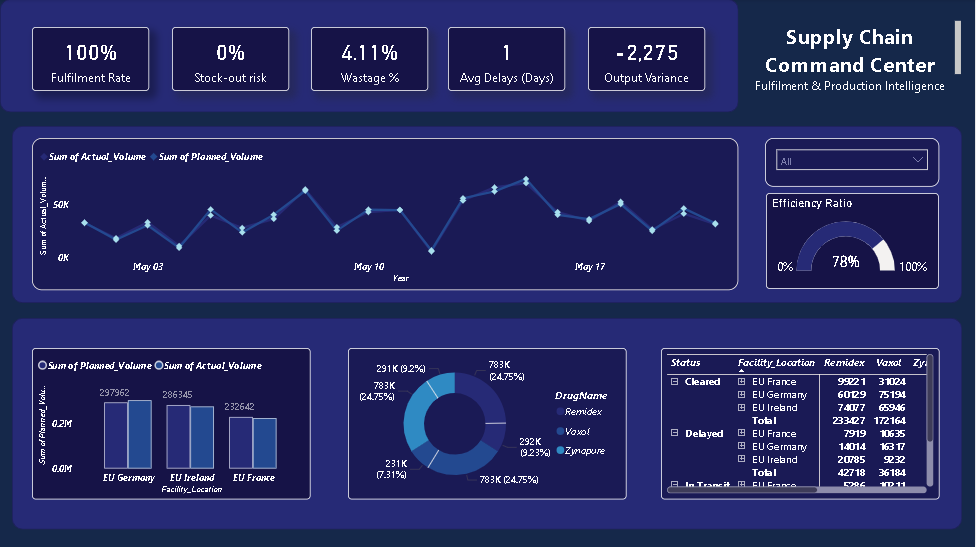

The page's visual inventory and layout, read from the dashboard file:
{"tool":"powerbi","page":{"name":"Page 1","canvas":[1280,720],"ordinal":0},"visuals":[{"type":"shape","box":[0,0,970.3,148.9],"z":0},{"type":"shape","box":[15.9,418.7,1248.1,277.8],"z":1000},{"type":"shape","box":[15.9,167.5,1248.1,232.6],"z":2000},{"type":"lineChart","fields":{"Y":["Sum(Manufacturing_Data_Expanded.Actual_Volume)","Sum(Manufacturing_Data_Expanded.Planned_Volume)"],"Category":["DateTable.Date.Variation.Date Hierarchy.Year","DateTable.Date.Variation.Date Hierarchy.Quarter","DateTable.Date.Variation.Date Hierarchy.Month","DateTable.Date.Variation.Date Hierarchy.Day"]},"box":[42.5,182.1,927.8,200],"z":3000},{"type":"donutChart","fields":{"Y":["Sum(Demand_Data_Expanded.Prescription_Volume)","Sum(Manufacturing_Data_Expanded.Actual_Volume)"],"Category":["Manufacturing_Data_Expanded.DrugName"]},"box":[457.2,458.6,365.5,199.4],"z":4000},{"type":"clusteredColumnChart","fields":{"Category":["Manufacturing_Data_Expanded.Facility_Location"],"Y":["Sum(Manufacturing_Data_Expanded.Planned_Volume)","Sum(Manufacturing_Data_Expanded.Actual_Volume)"]},"box":[42.5,458.6,365.5,199.4],"z":5000},{"type":"slicer","fields":{"Values":["DateTable.Date","Manufacturing_Data_Expanded.DrugName","Manufacturing_Data_Expanded.Facility_Location"]},"box":[1004.9,182.1,228.6,63.8],"z":6000},{"type":"pivotTable","fields":{"Rows":["Logistics_Data_Expanded.Status","Manufacturing_Data_Expanded.Facility_Location","Logistics_Data_Expanded.Route_Destination"],"Columns":["Manufacturing_Data_Expanded.DrugName"],"Values":["Sum(Manufacturing_Data_Expanded.Actual_Volume)"]},"box":[868,458.6,365.5,199.4],"z":7000},{"type":"gauge","fields":{"Y":["_Measures.Efficiency Ratio"]},"box":[1006.2,255.2,227.3,126.3],"z":8000},{"type":"card","fields":{"Values":["_Measures.Fulfilment Rate"]},"box":[42.5,37.2,154.2,83.7],"z":9000},{"type":"card","fields":{"Values":["_Measures.Stock-out risk"]},"box":[226,37.2,154.2,83.7],"z":10000},{"type":"card","fields":{"Values":["_Measures.Wastage %"]},"box":[408.1,37.2,154.2,83.7],"z":11000},{"type":"card","fields":{"Values":["_Measures.Avg Delays (Days)"]},"box":[588.8,37.2,154.2,83.7],"z":12000},{"type":"card","fields":{"Values":["_Measures.Output Variance"]},"box":[772.2,37.2,154.2,83.7],"z":13000},{"type":"textbox","box":[973,23.9,293.8,111],"z":14000}]}

Visuals, with their boxes in screenshot pixels (x1, y1, x2, y2), scaled from the page's 1280x720 canvas onto the 976x547 screenshot:
shape: <region>0, 0, 740, 113</region>
shape: <region>12, 318, 964, 529</region>
shape: <region>12, 127, 964, 304</region>
lineChart - Sum(Manufacturing_Data_Expanded.Actual_Volume) x Sum(Manufacturing_Data_Expanded.Planned_Volume): <region>32, 138, 740, 290</region>
donutChart - Sum(Demand_Data_Expanded.Prescription_Volume) x Sum(Manufacturing_Data_Expanded.Actual_Volume): <region>349, 348, 627, 500</region>
clusteredColumnChart - Manufacturing_Data_Expanded.Facility_Location x Sum(Manufacturing_Data_Expanded.Planned_Volume): <region>32, 348, 311, 500</region>
slicer - DateTable.Date x Manufacturing_Data_Expanded.DrugName: <region>766, 138, 941, 187</region>
pivotTable - Logistics_Data_Expanded.Status x Manufacturing_Data_Expanded.Facility_Location: <region>662, 348, 941, 500</region>
gauge - _Measures.Efficiency Ratio: <region>767, 194, 941, 290</region>
card - _Measures.Fulfilment Rate: <region>32, 28, 150, 92</region>
card - _Measures.Stock-out risk: <region>172, 28, 290, 92</region>
card - _Measures.Wastage %: <region>311, 28, 429, 92</region>
card - _Measures.Avg Delays (Days): <region>449, 28, 567, 92</region>
card - _Measures.Output Variance: <region>589, 28, 706, 92</region>
textbox: <region>742, 18, 966, 102</region>
